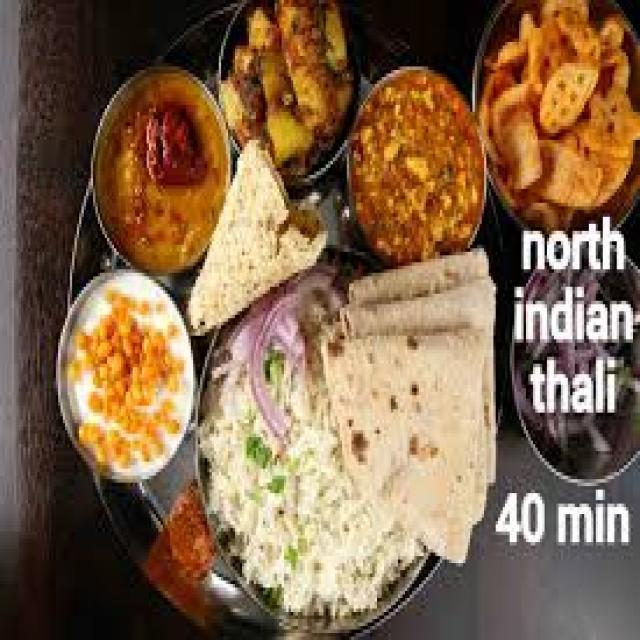dal: (92, 79, 225, 281)
papad: (204, 148, 295, 321)
rice: (346, 64, 482, 271), (59, 274, 191, 483)
veg-fry: (92, 78, 227, 280), (225, 0, 357, 182)
